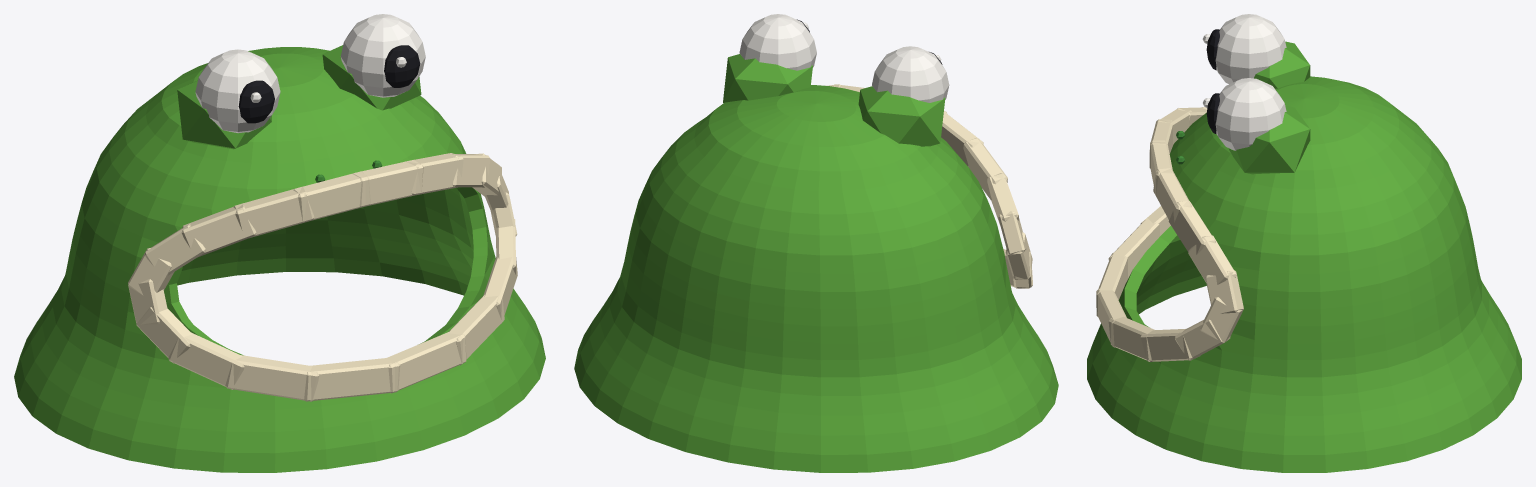
File: frog_hood.glb
3 views of the same model, side by side, from view 1: azimuth 30°, elevation 25°; view 2: azimuth 150°, elevation 25°; view 3: azimuth 270°, elevation 25° (orthographic). The views are drawn at different scales.
Visible parts, largest first — view 1: frog_hood; view 2: frog_hood; view 3: frog_hood.
Part boxes in pixels (box(x1,y1,x2,y2)): frog_hood: box(14, 14, 545, 472); frog_hood: box(574, 14, 1058, 472); frog_hood: box(1087, 14, 1521, 472).
Size of the model in its own units: 0.8437 by 0.6135 by 0.747.
